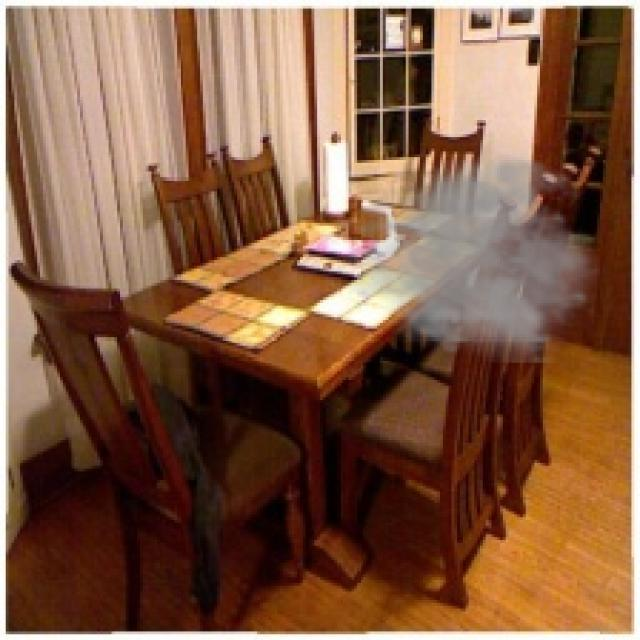Smoke: (346, 140, 606, 363)
